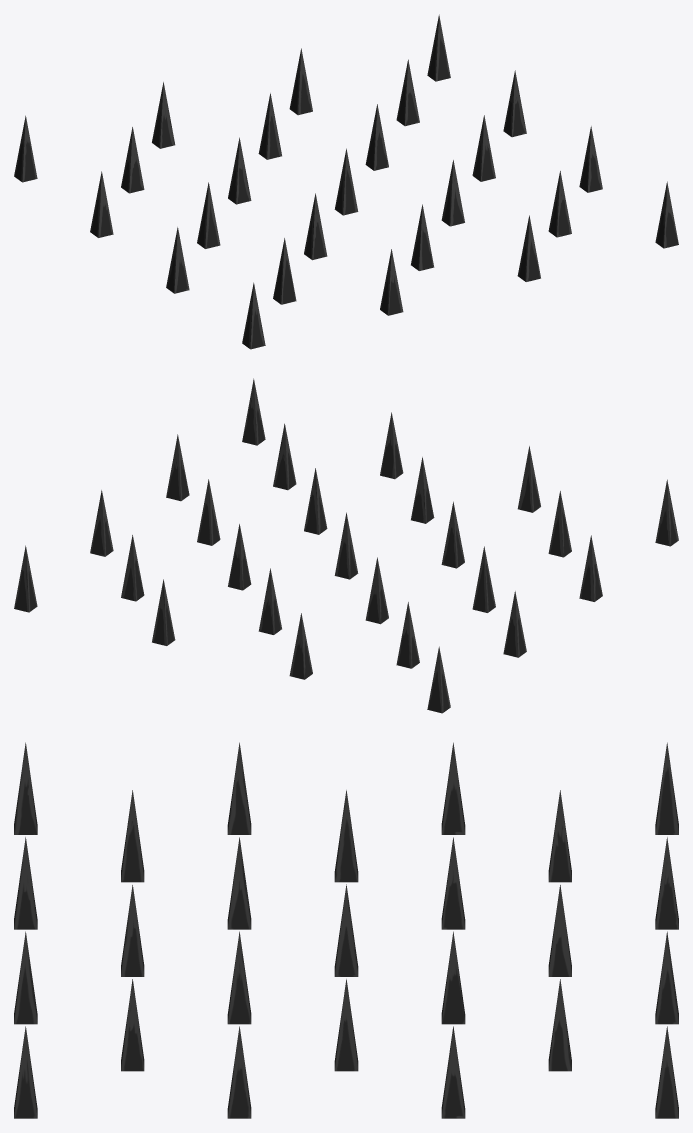
File: Floor_Spikes_Unwrapped.FBX
The picture shows the model from 3 angles, top to bottom: view 1: azimuth 30°, elevation 25°; view 2: azimuth 150°, elevation 25°; view 3: azimuth 270°, elevation 25°; orthographic projection. The views are drawn at different scales.
Visible parts, largest first — view 1: Floor_Trap_Spikes_1; view 2: Floor_Trap_Spikes_1; view 3: Floor_Trap_Spikes_1.
Boxes of the visible parts, bbox=[...] form: Floor_Trap_Spikes_1: bbox=[14, 14, 678, 349]; Floor_Trap_Spikes_1: bbox=[14, 378, 678, 713]; Floor_Trap_Spikes_1: bbox=[14, 742, 678, 1118].
Bounding box in the file's own units: 2.04 × 0.2826 × 1.95.
